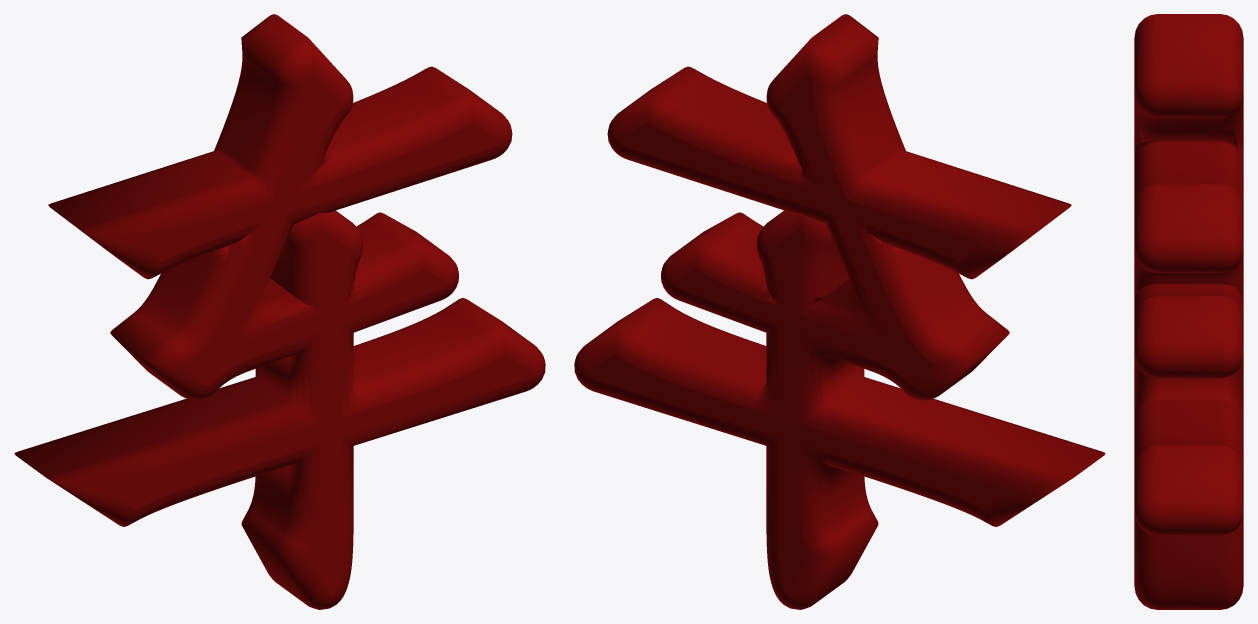
The model's file is che.fbx.
The picture shows the model from 3 angles, left to right: view 1: azimuth 30°, elevation 25°; view 2: azimuth 150°, elevation 25°; view 3: azimuth 270°, elevation 25°; orthographic projection. The views are drawn at different scales.
Parts seen in each view (by area): view 1: che/car; view 2: che/car; view 3: che/car.
Boxes of the visible parts, x1,y1,x2,y2 form: che/car: (14, 14, 545, 609); che/car: (574, 14, 1105, 609); che/car: (1134, 14, 1243, 609).
Bounding box in the file's own units: 75.32 × 83.12 × 14.
